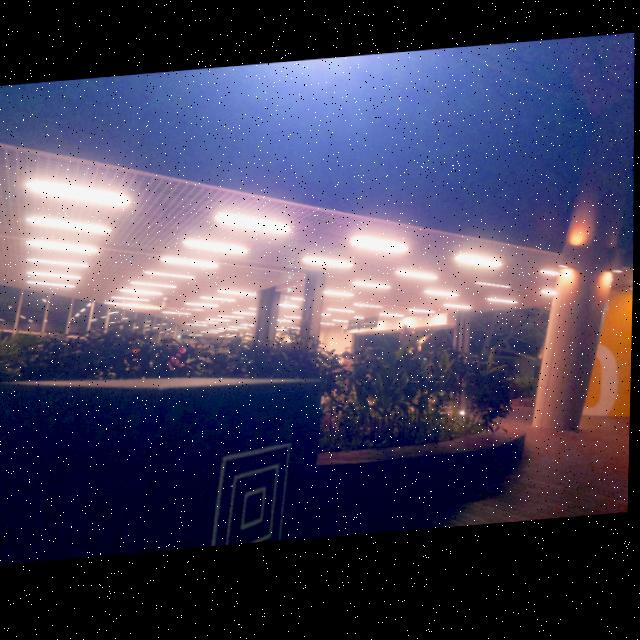BULLSEYE: (213, 448, 292, 550)
